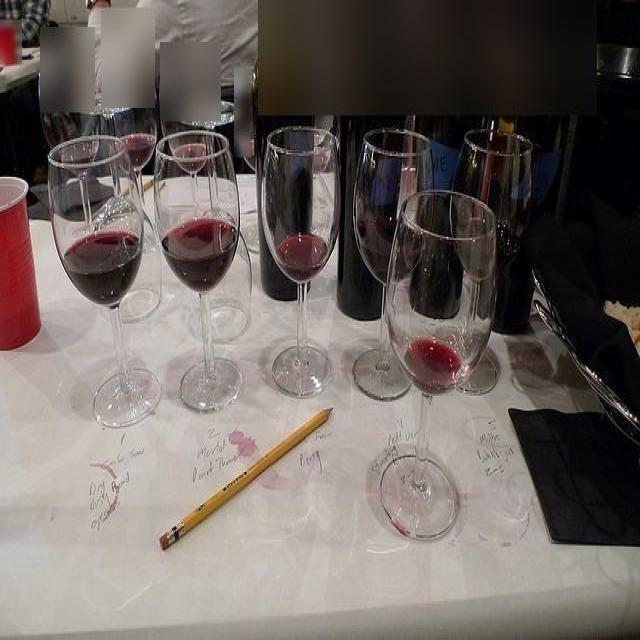cup-disposable: (1, 178, 41, 356)
glass-wine: (380, 193, 498, 538), (47, 134, 160, 428), (153, 129, 243, 414), (352, 130, 435, 398), (259, 129, 341, 399), (453, 130, 532, 386)
